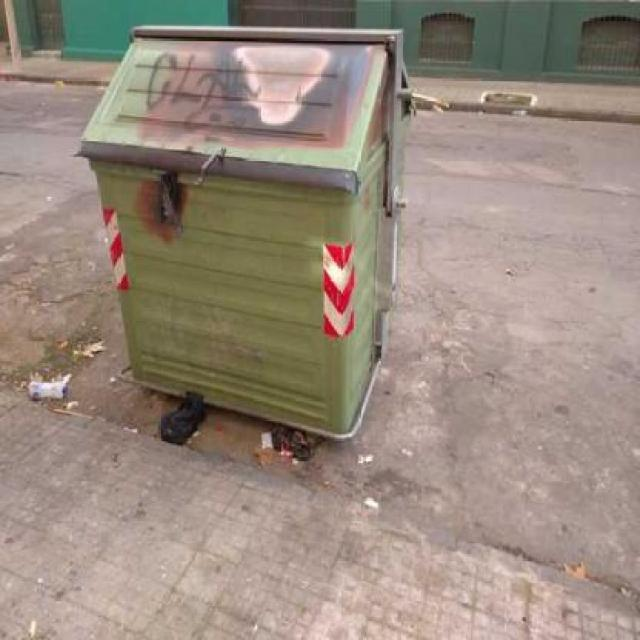garbage: (143, 389, 316, 471), (11, 365, 98, 428)
